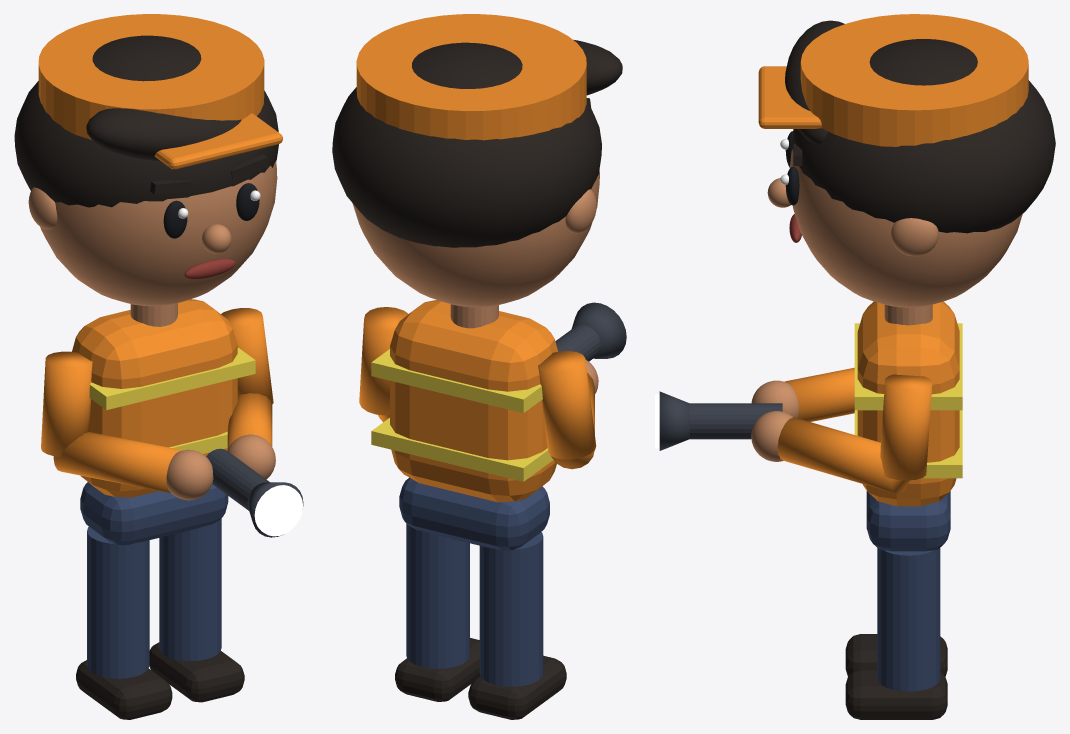
Rendered from mecanico.glb.
3 views of the same model, side by side, from view 1: azimuth 30°, elevation 25°; view 2: azimuth 150°, elevation 25°; view 3: azimuth 270°, elevation 25° (orthographic).
Visible parts, largest first — view 1: Cylinder.007, Sphere.002, Cube.003, Sphere.011, Cylinder, Cylinder.001, Cube.002, Sphere.012, Cylinder.003, Cylinder.002, lampara, Cube (+16 smaller); view 2: Sphere.011, Cube.003, Cylinder.007, Sphere.002, Cylinder, Cylinder.001, Cube.002, Cylinder.002, Cube.006, Cube, Cube.007, Cylinder.004 (+6 smaller); view 3: Sphere.011, Cylinder.007, Sphere.002, Cube.003, Cylinder.001, Cylinder.005, Cylinder.004, lampara, Cube.002, Cube.001, Cylinder.003, Cube.008 (+8 smaller).
Part boxes in pixels (x1,y1,x2,y2): Cylinder.007: (38,14,264,139); Sphere.002: (40,161,277,306); Cube.003: (72,299,237,497); Sphere.011: (14,35,278,207); Cylinder: (87,527,149,678); Cylinder.001: (159,518,221,660); Cube.002: (80,482,228,545); Sphere.012: (86,108,241,161); Cylinder.003: (53,432,181,492); Cylinder.002: (41,351,92,456); lampara: (206,448,303,537); Cube: (76,660,172,719); Sphere.011: (332,42,601,247); Cube.003: (390,300,557,502); Cylinder.007: (356,14,586,140); Sphere.002: (352,170,599,307); Cylinder: (479,532,543,686); Cylinder.001: (406,524,469,668); Cube.002: (399,477,549,550); Cylinder.002: (538,351,596,459); Cube.006: (371,418,553,481); Cube: (468,655,566,719); Cube.007: (371,349,542,413); Cylinder.004: (359,307,408,415); Sphere.011: (791,39,1055,233); Cylinder.007: (800,14,1028,146); Sphere.002: (790,149,1022,307); Cube.003: (857,301,959,506); Cylinder.001: (877,548,940,691); Cylinder.005: (777,417,909,493); Cylinder.004: (880,374,932,480); lampara: (655,391,782,450); Cube.002: (866,491,950,551); Cube.001: (845,669,947,719); Cylinder.003: (785,367,854,421); Cube.008: (758,66,821,128).
Bounding box in the file's own units: 0.916 × 2.35 × 1.33.
